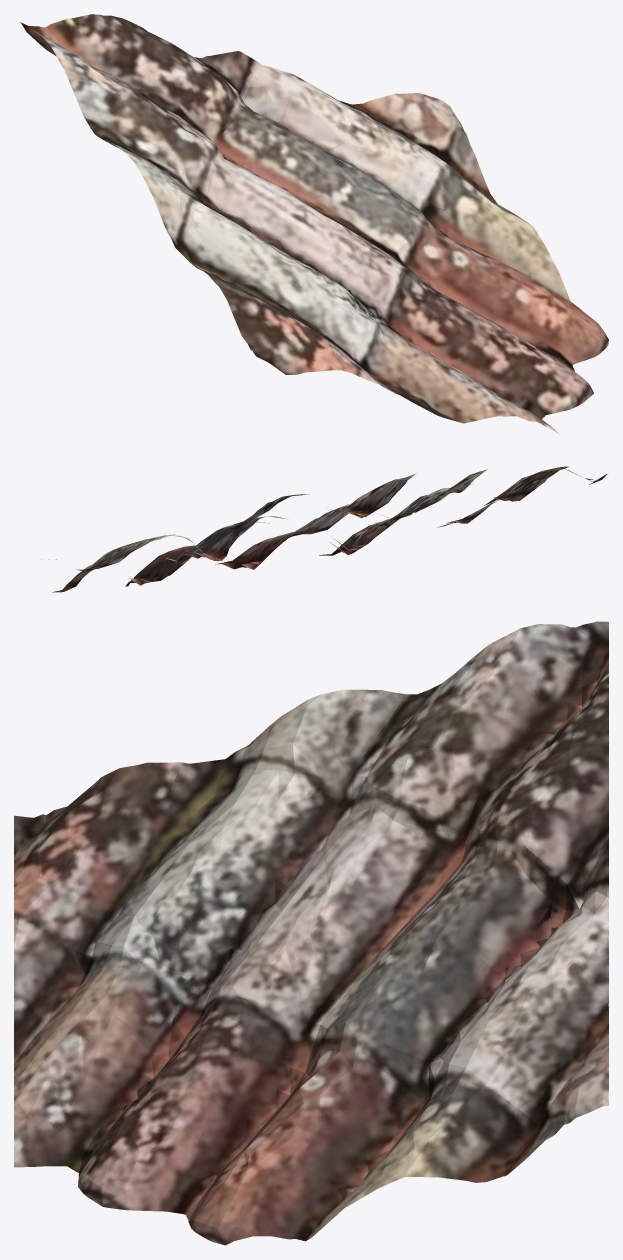
The picture shows the model from 3 angles, top to bottom: view 1: azimuth 30°, elevation 25°; view 2: azimuth 150°, elevation 25°; view 3: azimuth 270°, elevation 25°; orthographic projection. The views are drawn at different scales.
Bounding box in the file's own units: 0.8374 × 0.5785 × 0.8374.
Materials: 3 (3 with a texture image).
